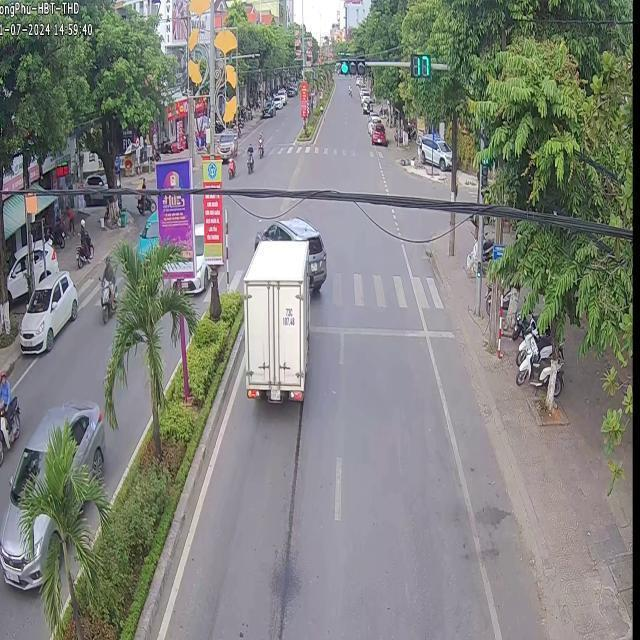car: (0, 398, 104, 587), (242, 238, 308, 400), (253, 216, 326, 289), (17, 269, 77, 351)
green_light: (409, 49, 429, 78), (341, 61, 365, 77)
motobike: (0, 394, 18, 461)
stop_line: (309, 325, 424, 336), (426, 329, 452, 336)
